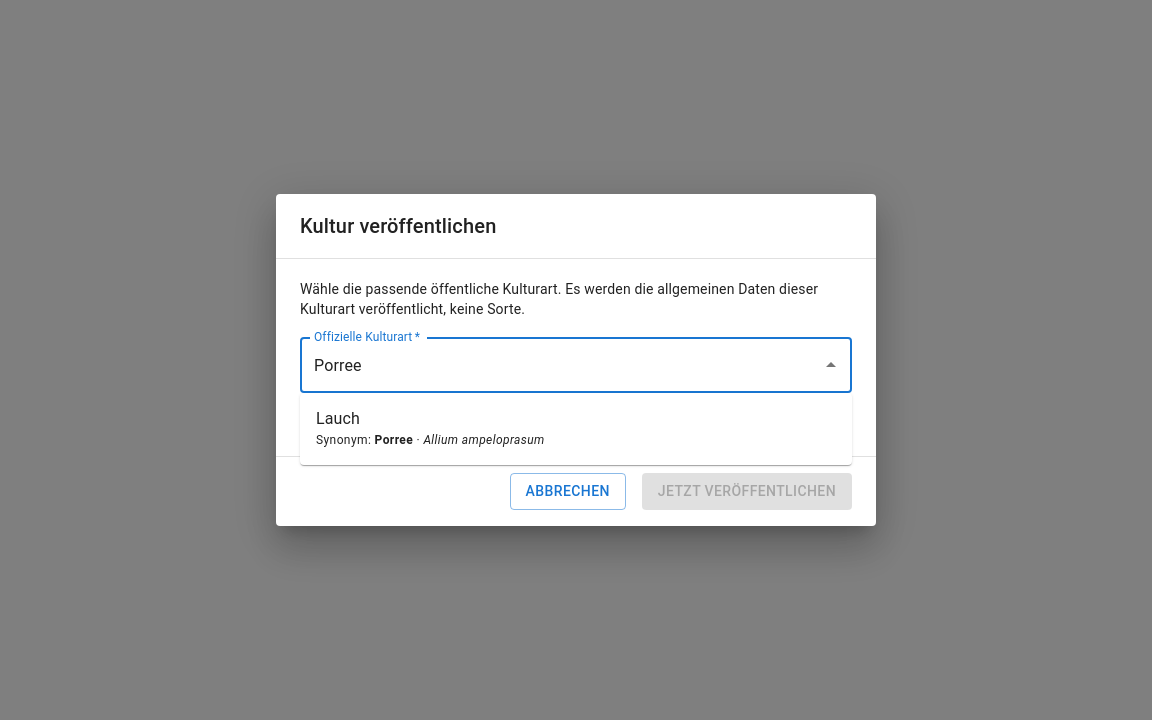
Test: CropsPublishingWizardDialog › explains a synonym hit and confirms the official name it is published under
Expected: the text "wird als" is not shown
Click the option "Lauch Synonym: Porree · Allium ampeloprasum" at {"x": 338, "y": 418}, box x1=316 y1=409 x2=545 y2=447
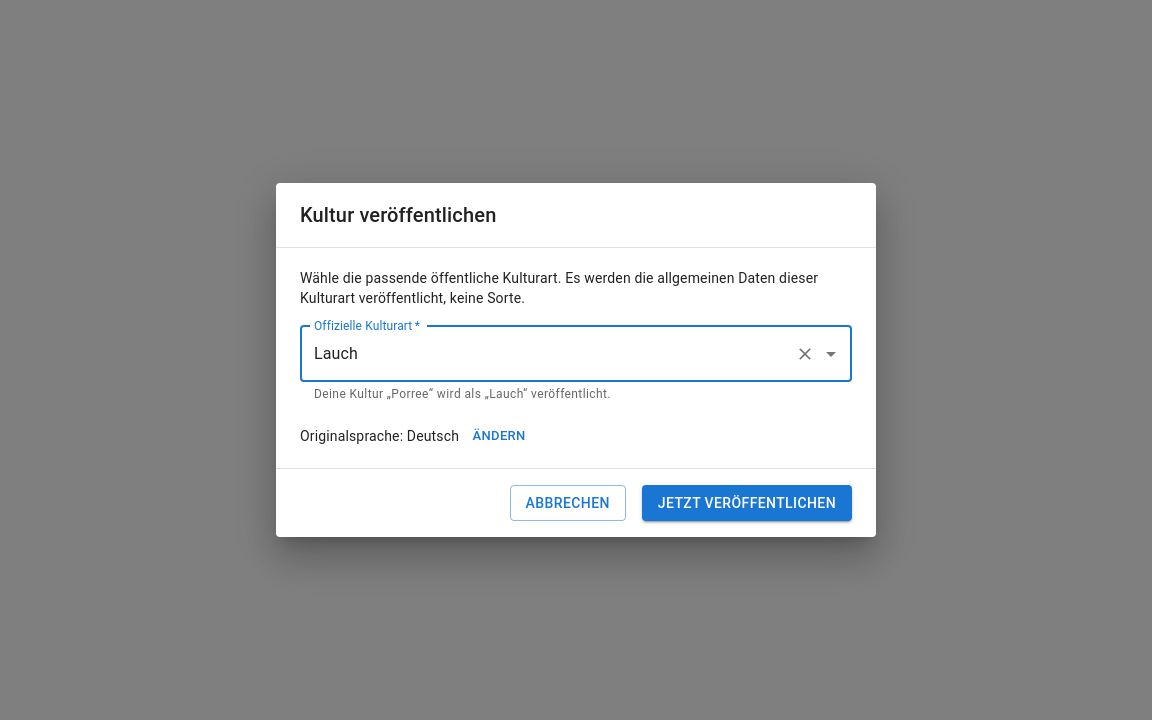
Now the text "Deine Kultur „Porree“ wird als „Lauch“ veröffentlicht." is shown, box x1=314 y1=387 x2=611 y2=401
